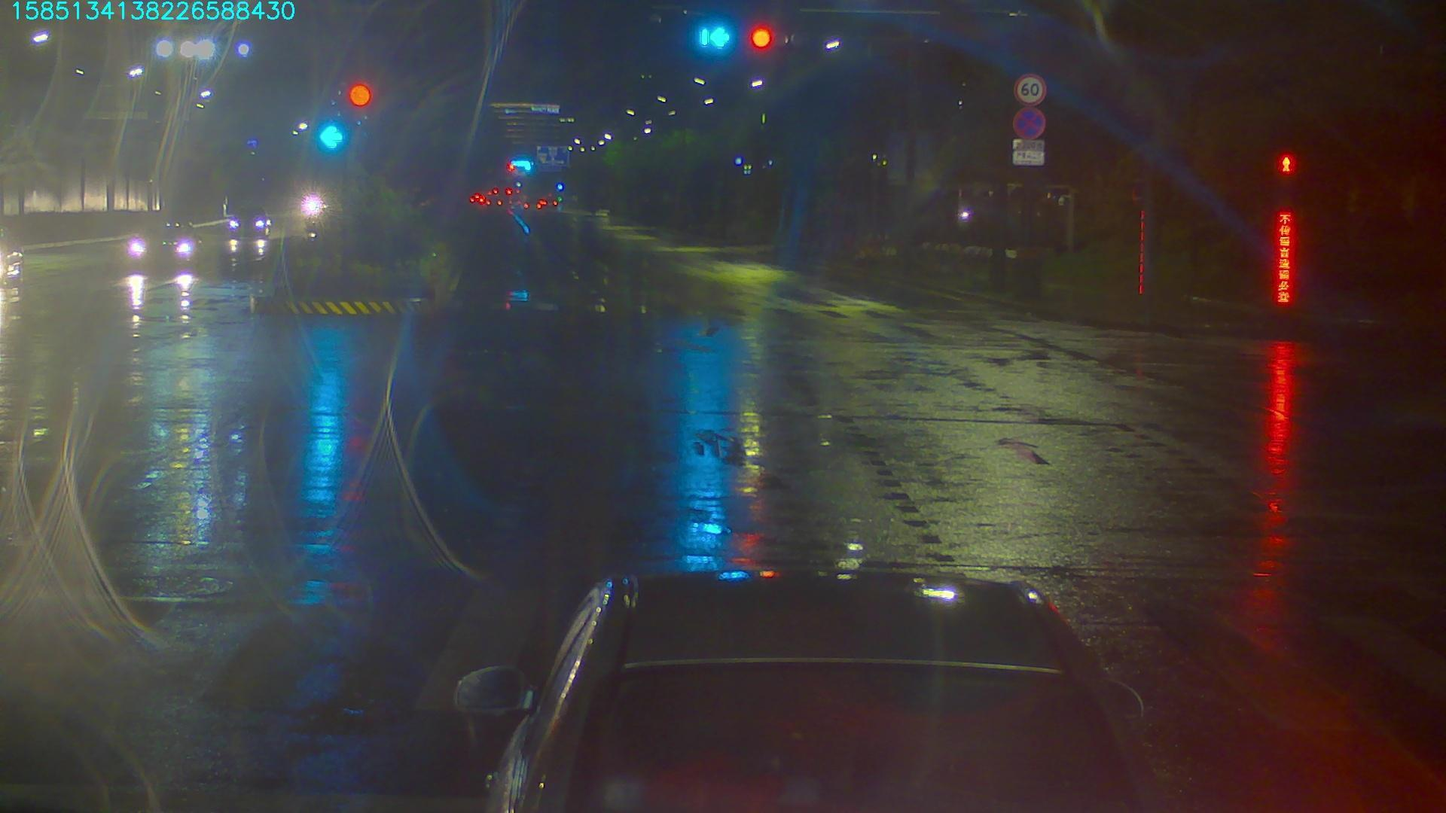green: (691, 20, 731, 52)
red: (744, 25, 779, 50)
